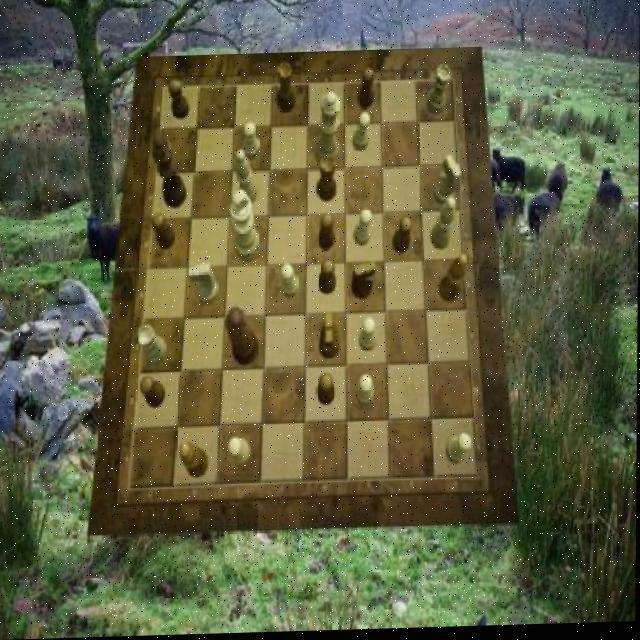bishop: (440, 258, 469, 306), (180, 443, 209, 480)
black-bishop: (153, 131, 188, 209)
black-king: (319, 315, 341, 361), (352, 262, 377, 301)
black-knight: (168, 80, 190, 121), (151, 214, 175, 251), (141, 375, 166, 409), (358, 71, 375, 112), (318, 215, 336, 253), (394, 220, 413, 256), (318, 261, 336, 296), (316, 375, 335, 408)
black-pawn: (225, 308, 260, 369)
black-queen: (317, 158, 338, 205), (278, 64, 297, 114)
black-rook: (432, 200, 457, 254), (236, 151, 259, 207)
white-bishop: (231, 191, 261, 266)
white-king: (434, 157, 462, 208), (189, 264, 219, 306)
white-knight: (448, 435, 473, 468), (353, 115, 371, 154), (354, 210, 371, 248), (244, 123, 261, 161), (228, 439, 251, 467), (281, 265, 299, 300), (360, 320, 377, 355), (356, 376, 374, 407)
white-pawn: (316, 94, 341, 169)
white-queen: (138, 327, 168, 368), (427, 68, 451, 118)
